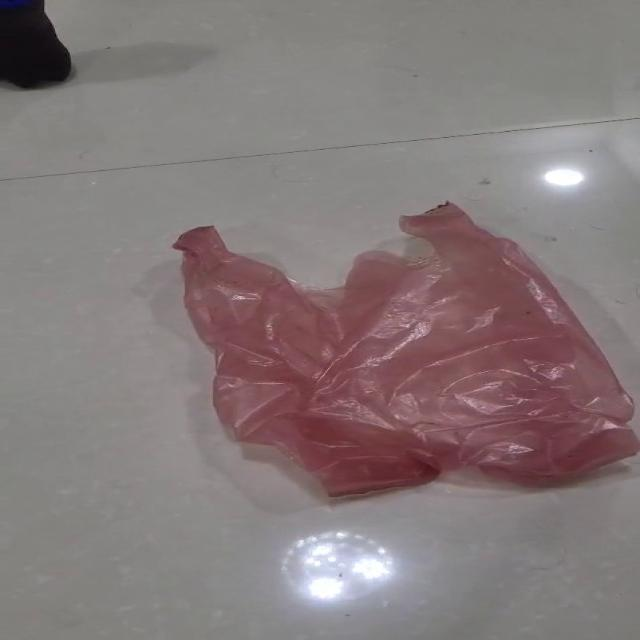plastic: (172, 200, 638, 498)
